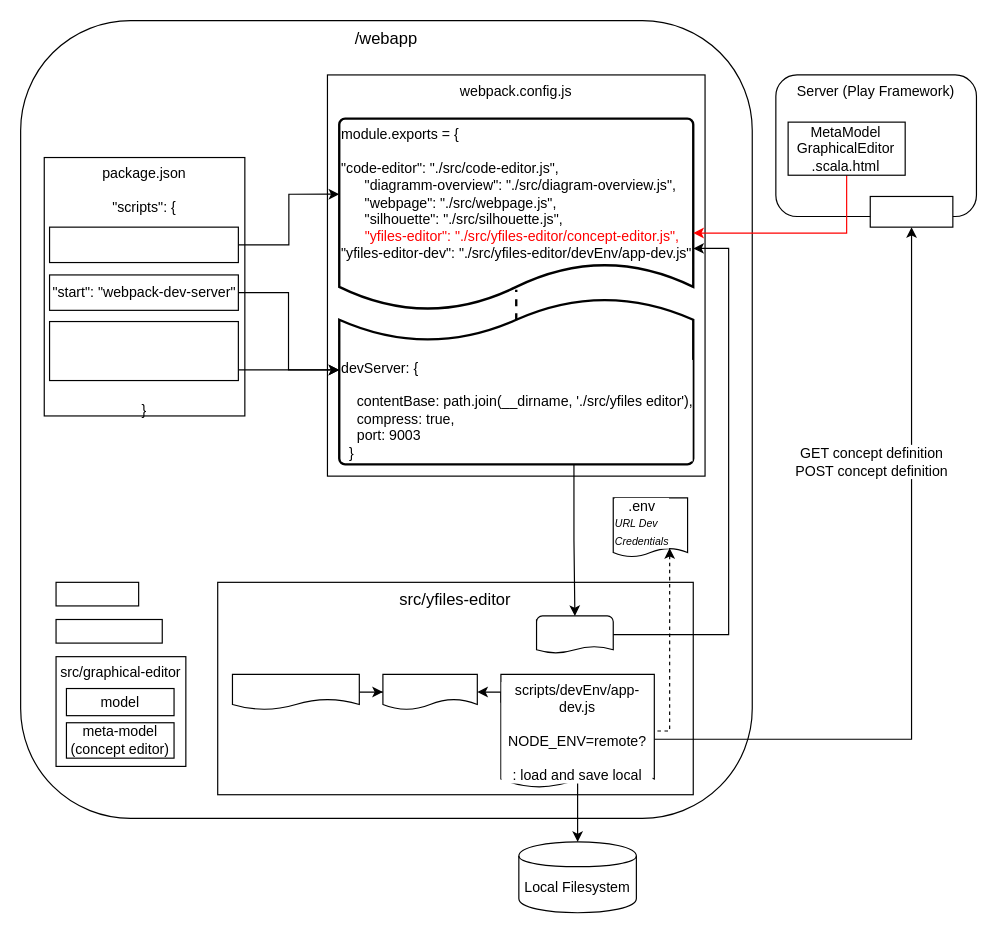
Some shapes in this 997 by 933 pixel diagram are drawn without their labels. The centre of each missing label's shape, as x and y in pixels:
"dev": "node dev.js": point (143, 244)
"startRemote": "NODE_ENV=remote webpack-dev-server": point (143, 350)
concept-editor.js: point (295, 691)
index.html: point (574, 634)
REST-API: point (911, 211)
scripts/app.js: point (429, 691)
src/app: point (97, 593)
src/code-editor: point (108, 630)
